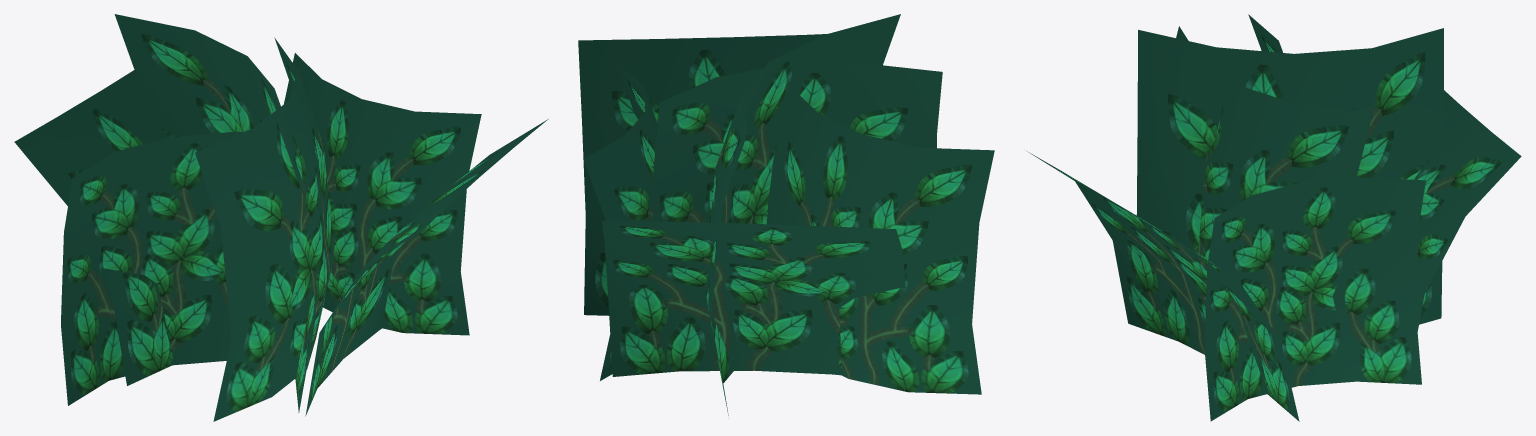
Rendered from bush_09.fbx.
3 renders of one model, left to right at view 1: azimuth 30°, elevation 25°; view 2: azimuth 150°, elevation 25°; view 3: azimuth 270°, elevation 25°, orthographic. The views are drawn at different scales.
Visible parts, largest first — view 1: bush_09; view 2: bush_09; view 3: bush_09.
Boxes of the visible parts, x1,y1,x2,y2 form: bush_09: [14, 14, 548, 421]; bush_09: [578, 14, 994, 417]; bush_09: [1027, 14, 1521, 421].
Size of the model in its own units: 170 by 107 by 170.
